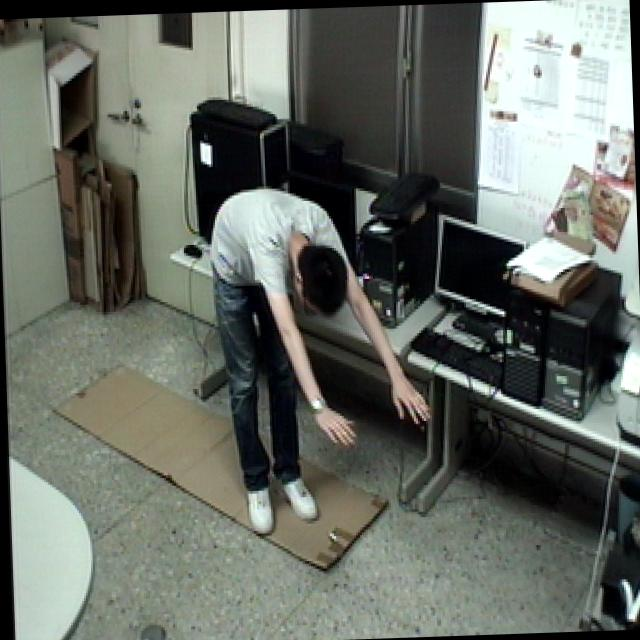bend: (195, 173, 438, 546)
